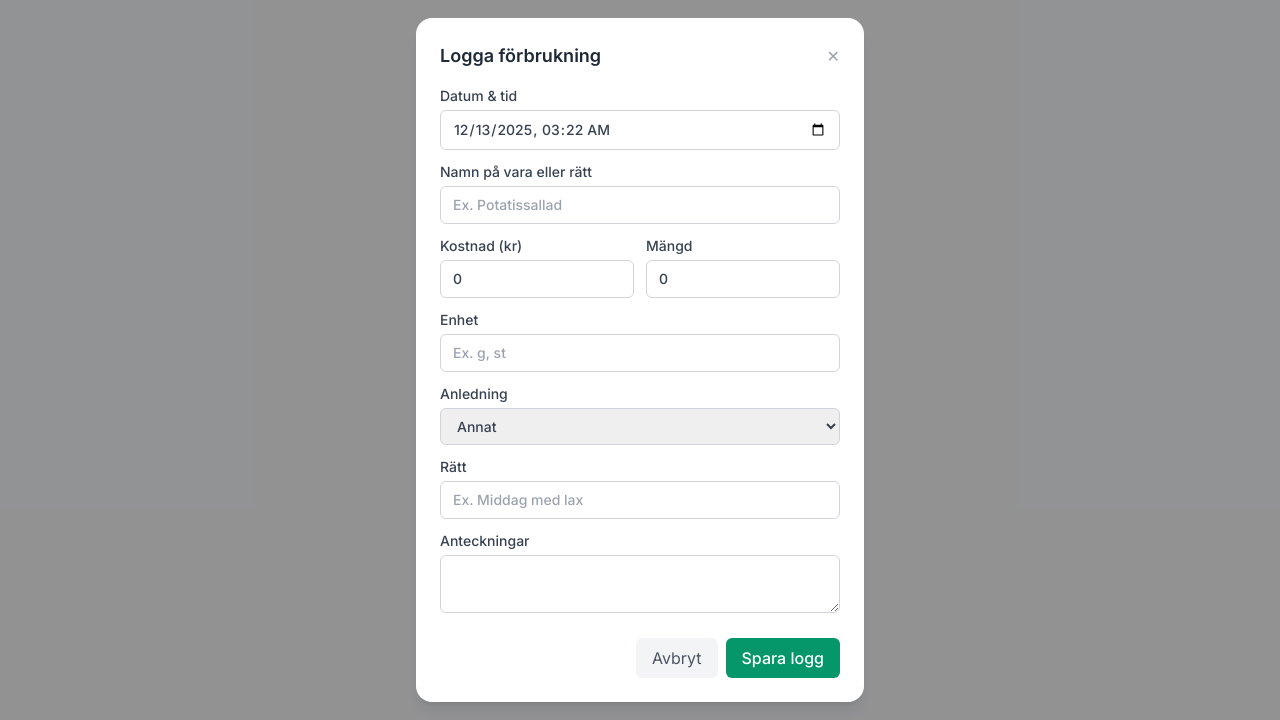
Test: ManualConsumptionLogModal › resets form after successful submission
The width and height of the screenshot is (1280, 720).
// Fill form
In the field with placeholder "Ex. Potatissallad": (640, 205) [440, 186, 840, 224], type "Test Item"
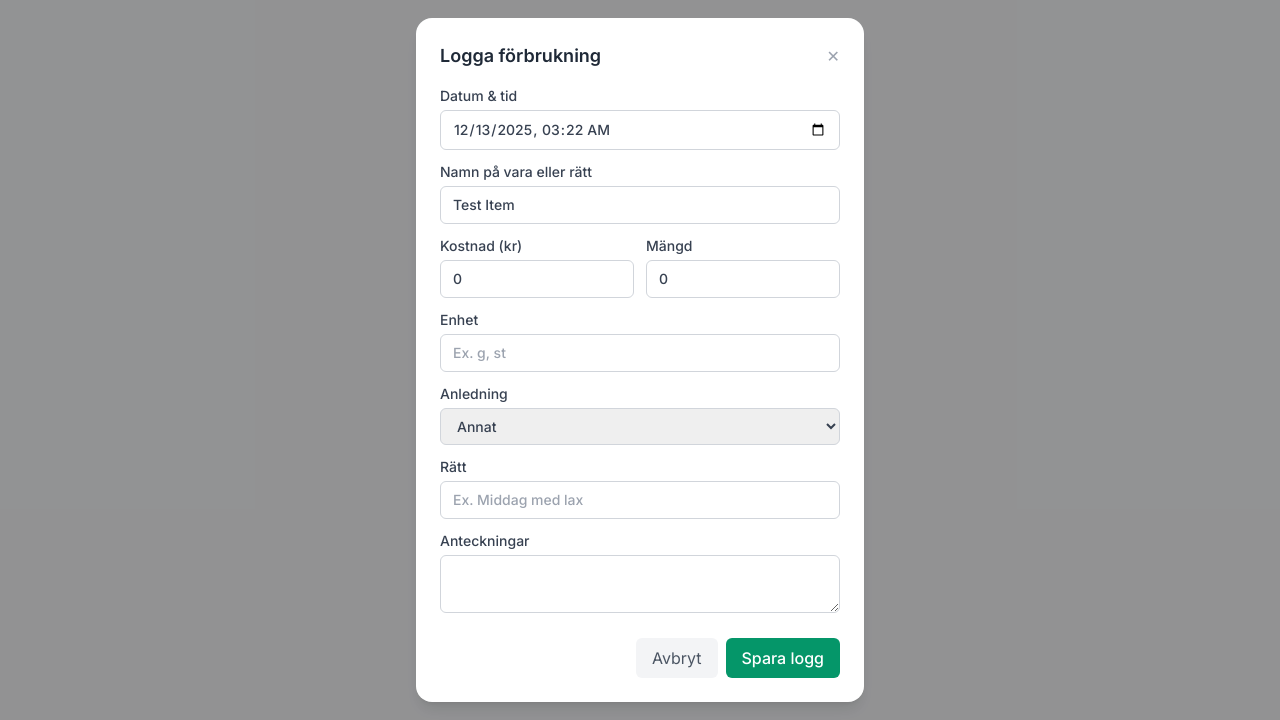
Replace the text in the number field labelled "Kostnad (kr)" with "10": (537, 279) [440, 260, 634, 298]
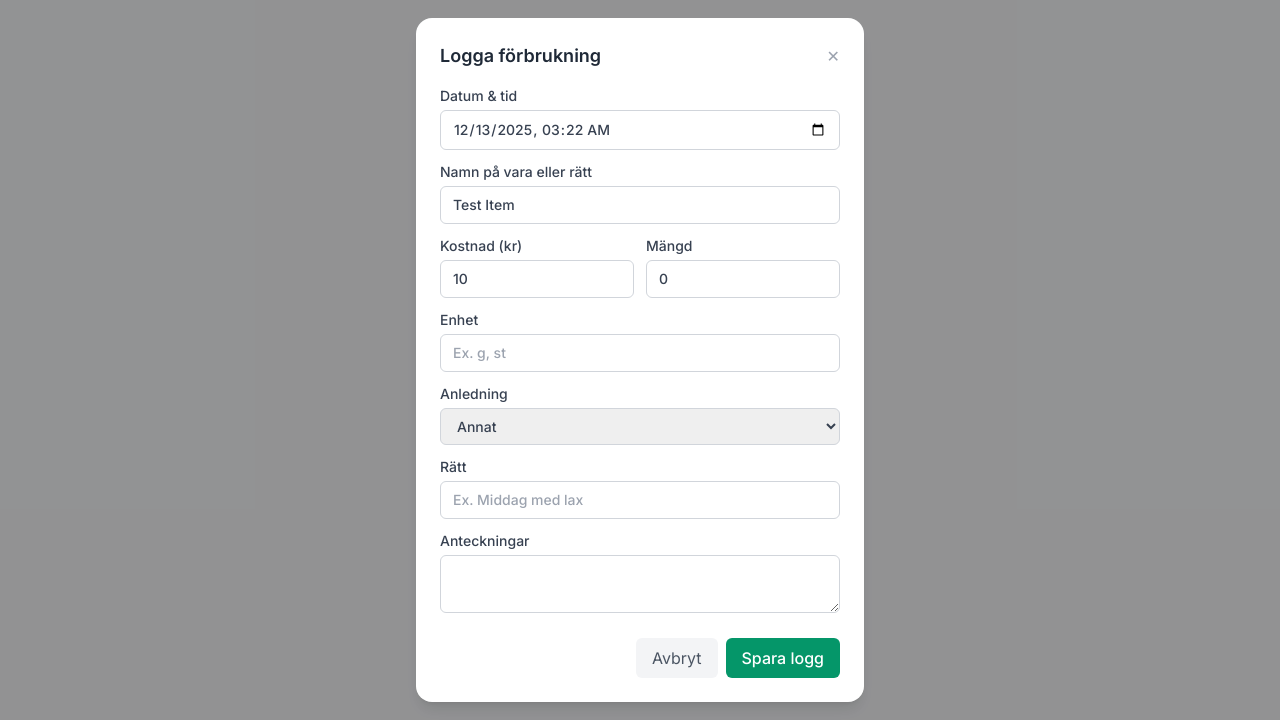
Click the button "Spara logg": (783, 658) [726, 638, 840, 678]
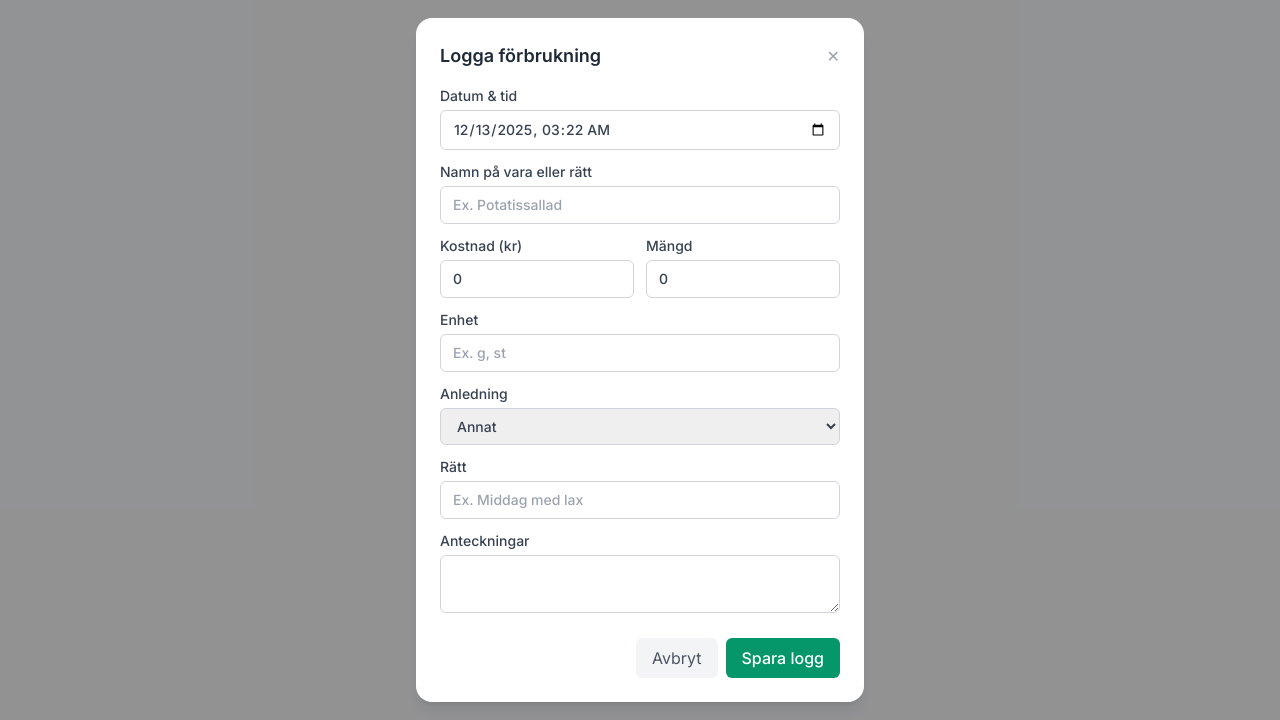
Now the field with placeholder "Ex. Potatissallad" is empty, box [440, 186, 840, 224]
Now the number field labelled "Kostnad (kr)" holds "0", box [440, 260, 634, 298]
